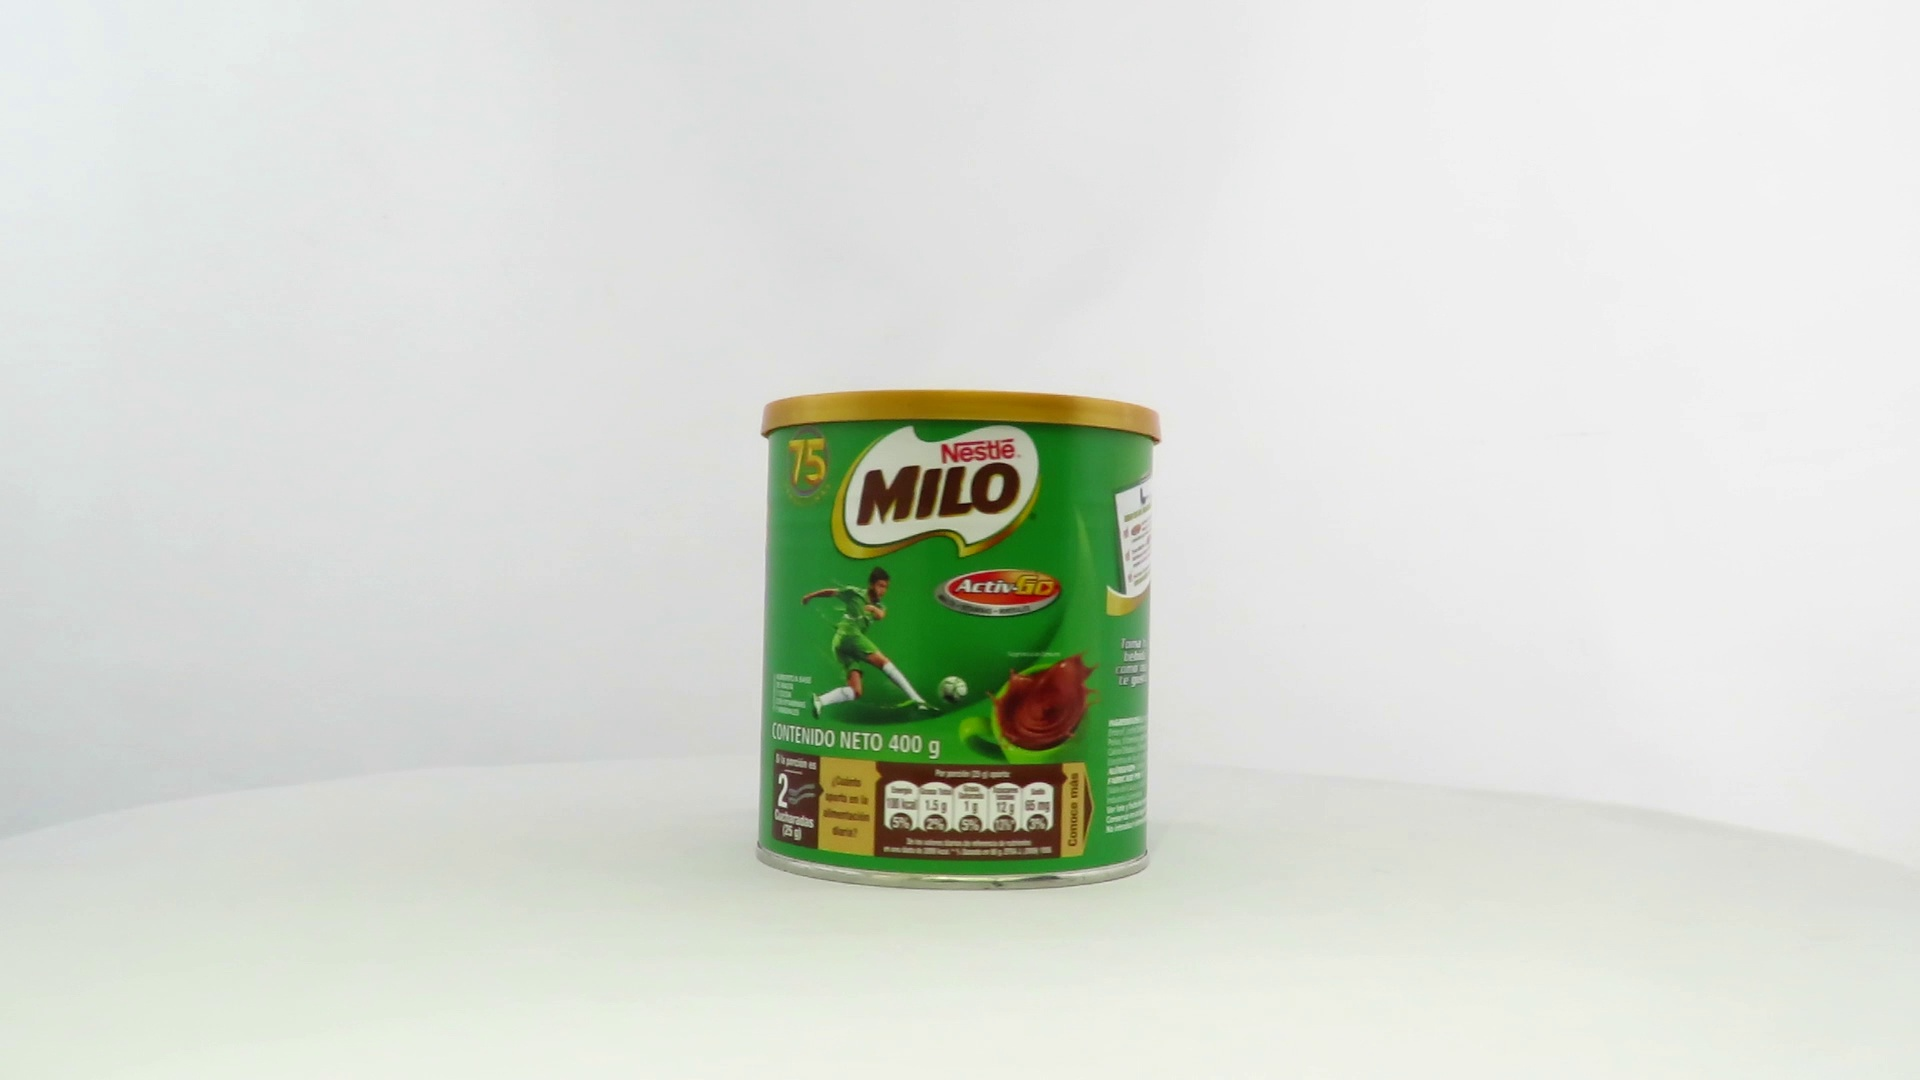COL0170203LAT40000: (746, 384, 1168, 897)
